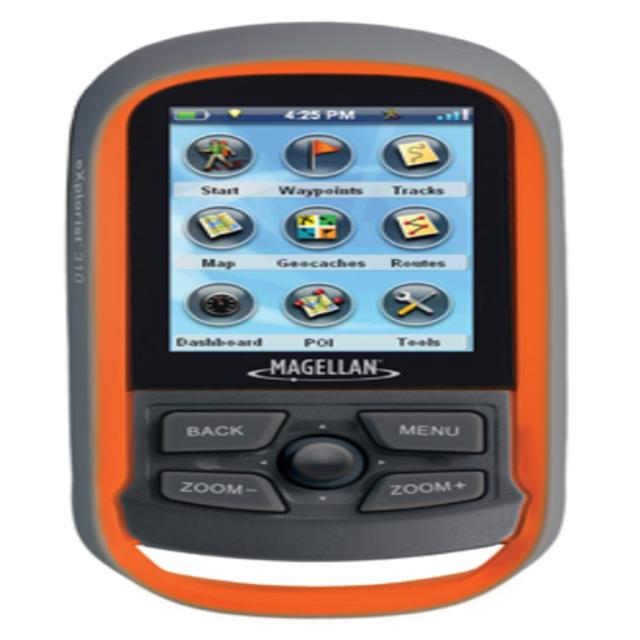Mobile-phone: (64, 22, 563, 618)
